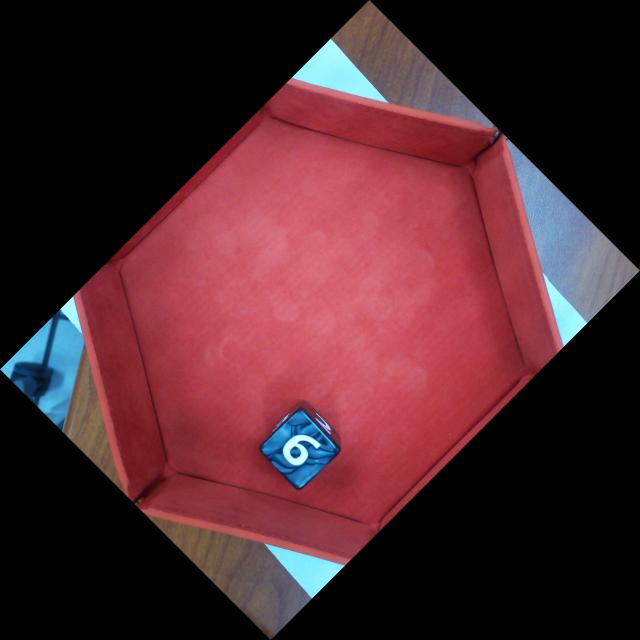dice: (253, 403, 346, 494)
